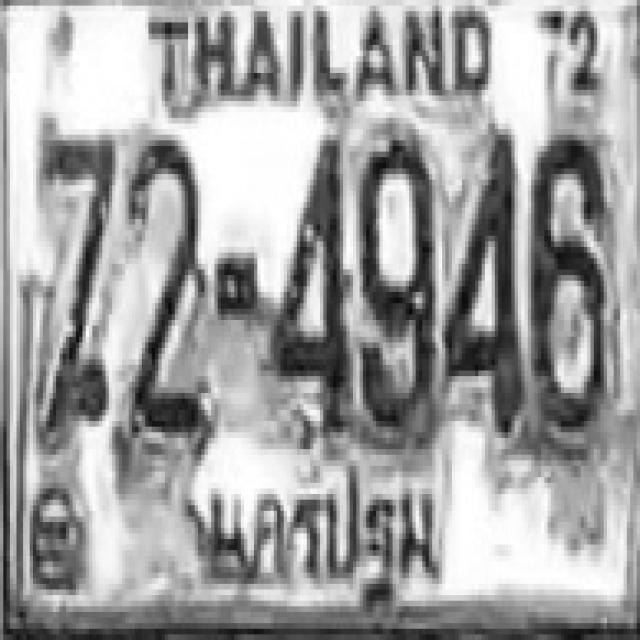2: (117, 135, 210, 466), (120, 134, 207, 454), (36, 123, 116, 438)
4: (440, 124, 523, 432), (266, 129, 348, 432)
6: (528, 129, 607, 444)
9: (356, 126, 436, 435)
NPT: (200, 469, 447, 622)
